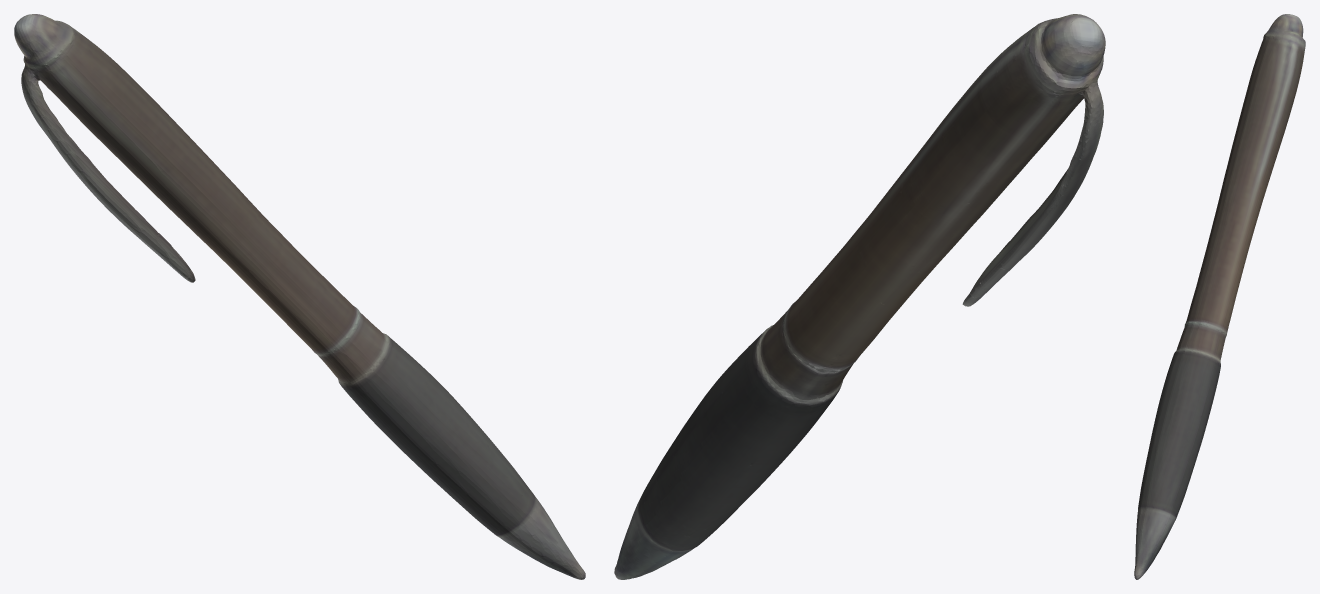
File: frame_0040_source_000040_object.glb
3 renders of one model, left to right at view 1: azimuth 30°, elevation 25°; view 2: azimuth 150°, elevation 25°; view 3: azimuth 270°, elevation 25°, orthographic. The views are drawn at different scales.
Parts seen in each view (by area): view 1: world; view 2: world; view 3: world.
Boxes of the visible parts, x1,y1,x2,y2 form: world: [14, 14, 585, 579]; world: [614, 14, 1105, 579]; world: [1134, 14, 1305, 579].
Bounding box in the file's own units: 0.1187 × 0.1459 × 0.0547.
